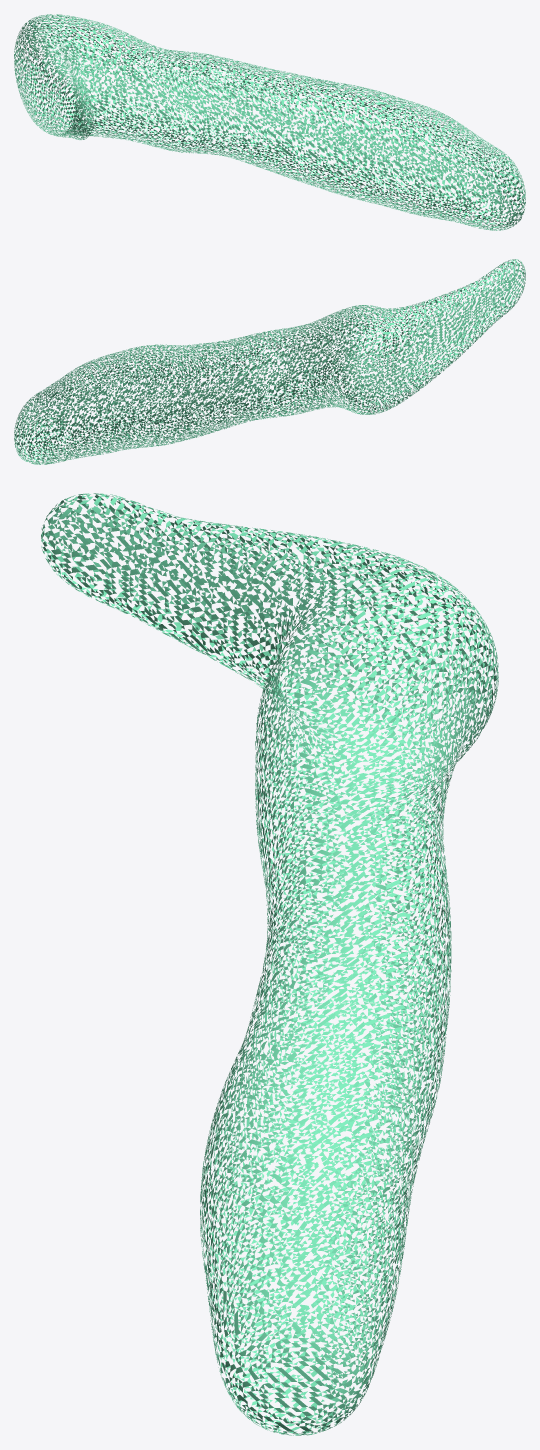
File: healthy.glb
The picture shows the model from 3 angles, top to bottom: view 1: azimuth 30°, elevation 25°; view 2: azimuth 150°, elevation 25°; view 3: azimuth 270°, elevation 25°; orthographic projection. The views are drawn at different scales.
Bounding box in the file's own units: 130 × 74.38 × 58.3.
